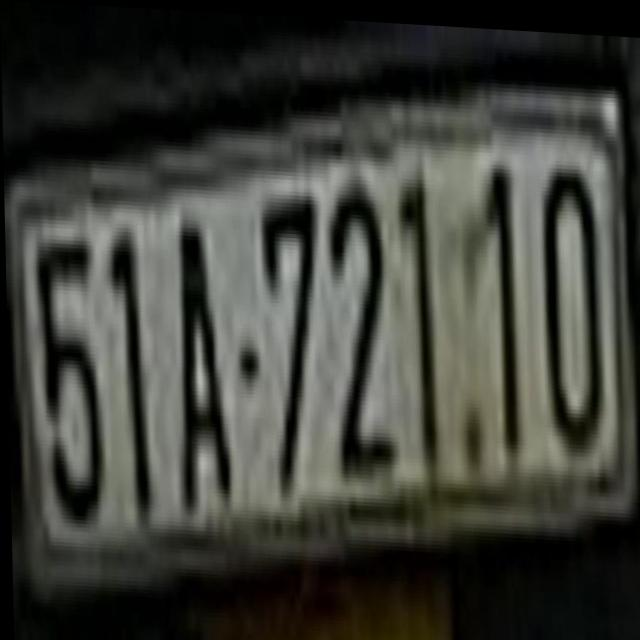0: (538, 137, 603, 451)
1: (106, 222, 151, 538), (400, 162, 443, 474), (481, 162, 523, 470)
2: (324, 173, 403, 484)
5: (32, 230, 104, 540)
7: (258, 182, 322, 507)
A: (166, 194, 230, 511)
